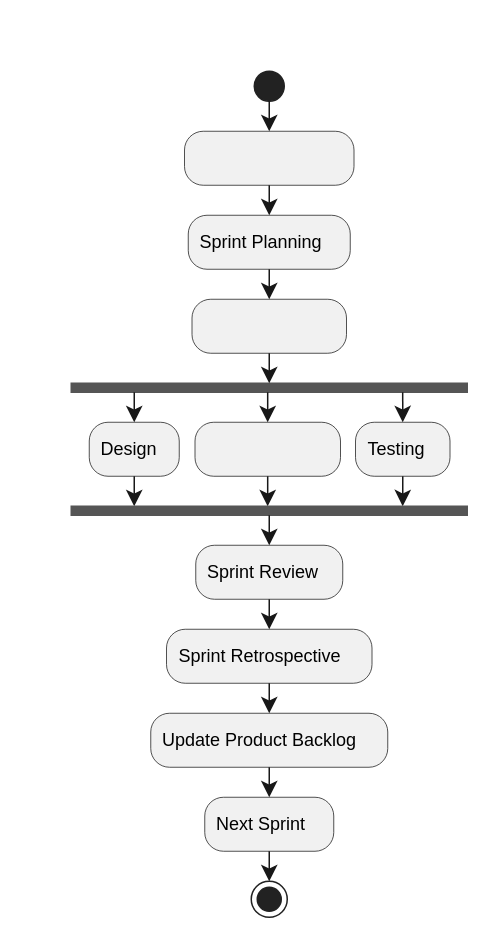
Some shapes in this 494 by 944 pixel diagram are drawn without their labels. Each missing label, with the centre of its shape:
Development: (x=267, y=448)
Product Backlog: (x=268, y=157)
Sprint Backlog: (x=268, y=325)
